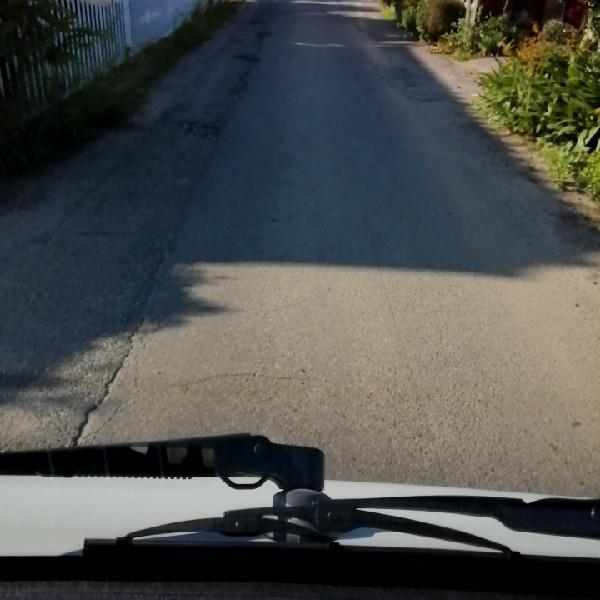D00: (66, 290, 145, 449)
D10: (148, 359, 344, 396)
